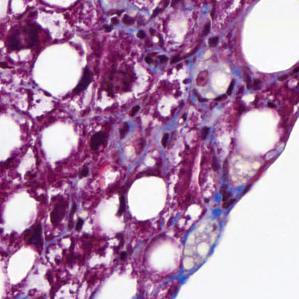inflammation: (0, 12, 46, 59)
